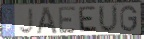A: (35, 6, 59, 36)
E: (78, 5, 98, 33), (58, 6, 77, 35)
G: (120, 5, 139, 33)
J: (18, 7, 35, 35)
U: (97, 5, 119, 35)
